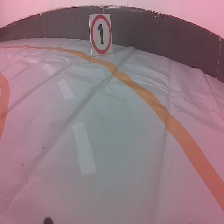limit: (87, 12, 115, 57)
